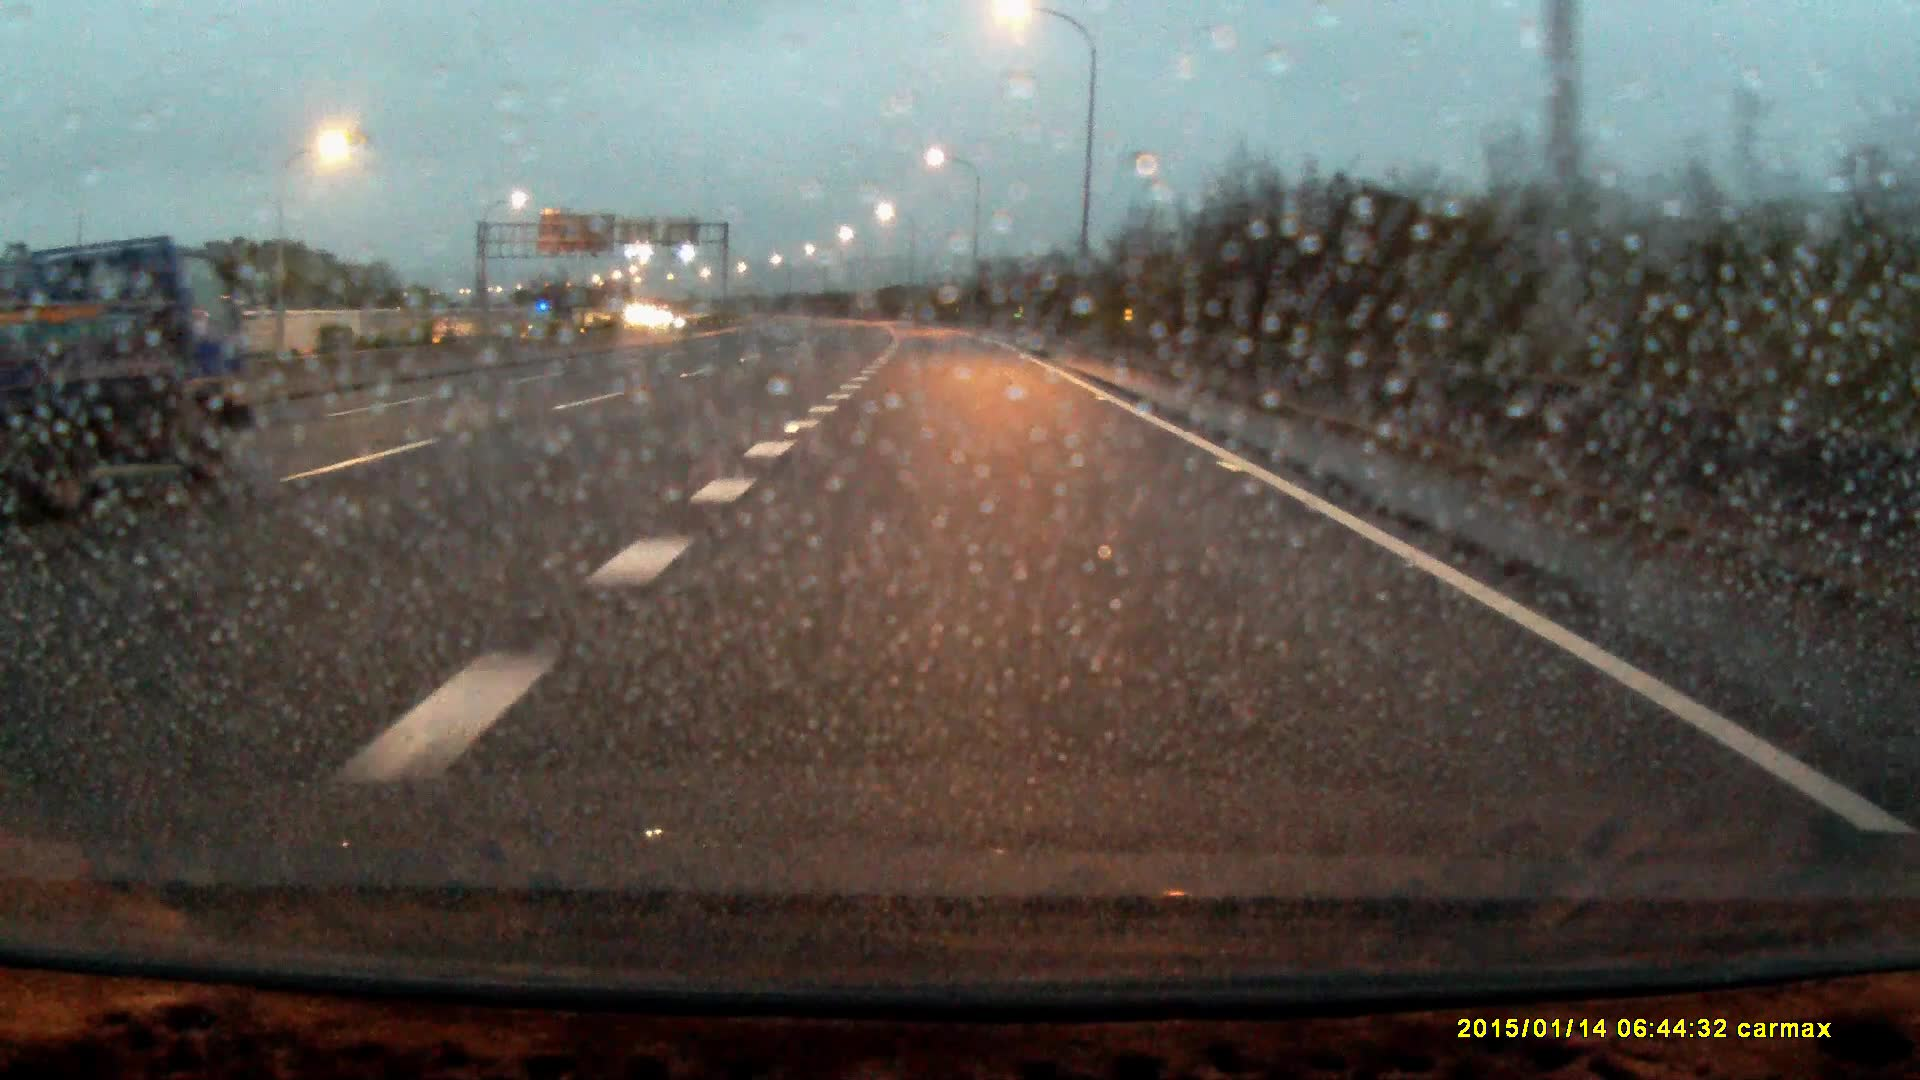vehicle: (1, 222, 313, 522)
